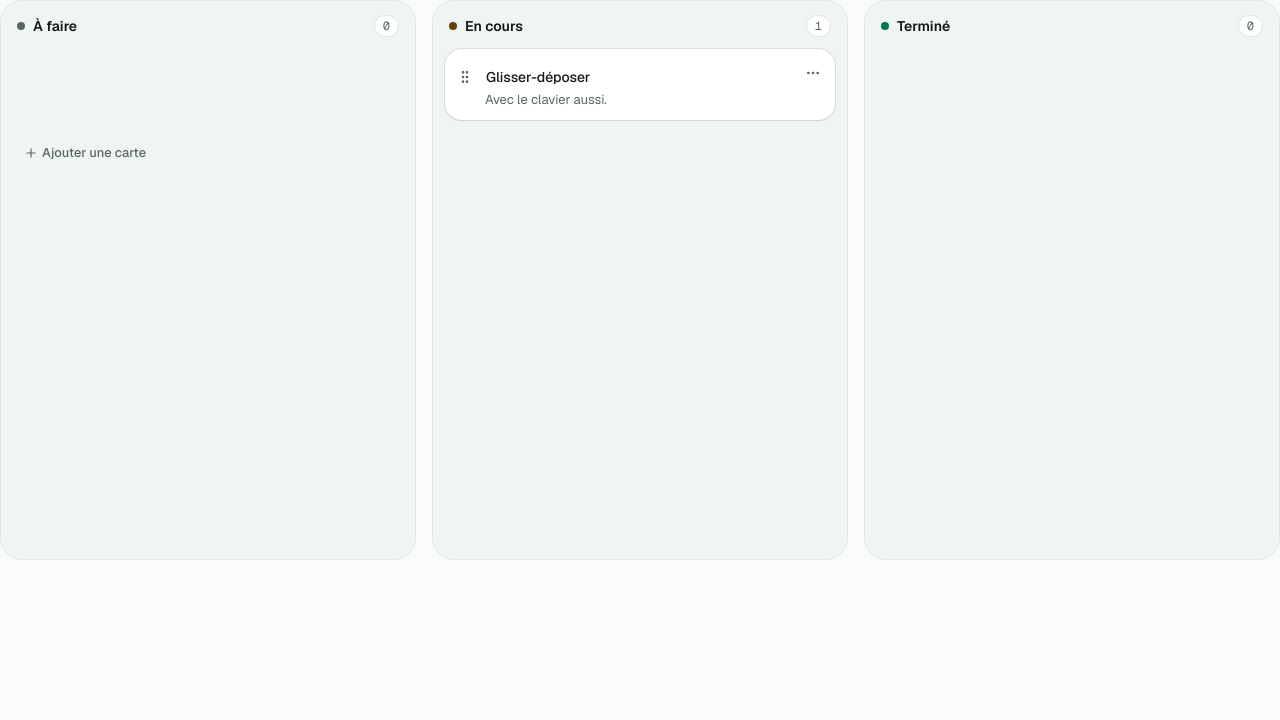
Test: BoardView › affiche la description d'une carte et l'ouvre en édition au clic
Expected: the text "Avec le clavier aussi." is shown, [485,91,607,108]
Click the button "Glisser-déposer".
click(538, 77)  # box [485,67,793,88]
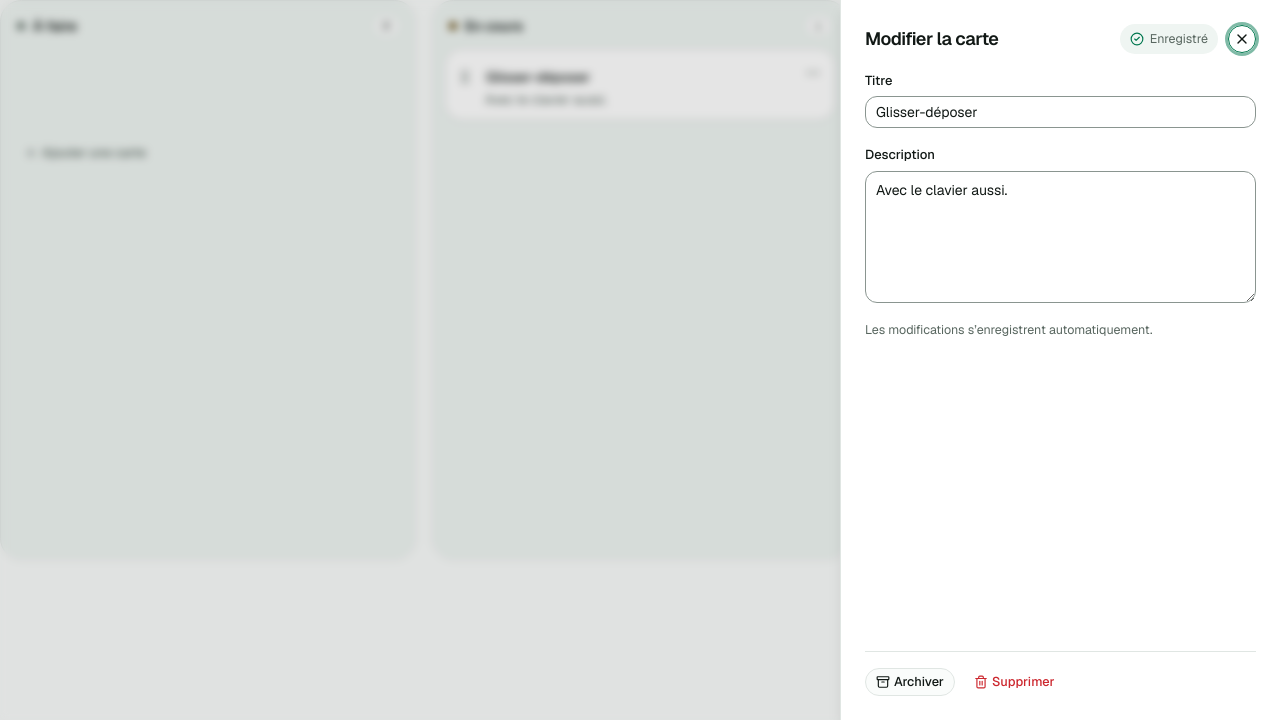
Now the field labelled "Titre" holds "Glisser-déposer", box [865,96,1256,128]
Now the text box labelled "Description" holds "Avec le clavier aussi.", box [865,171,1256,303]
